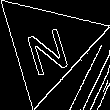N_N: (22, 15, 74, 75)
